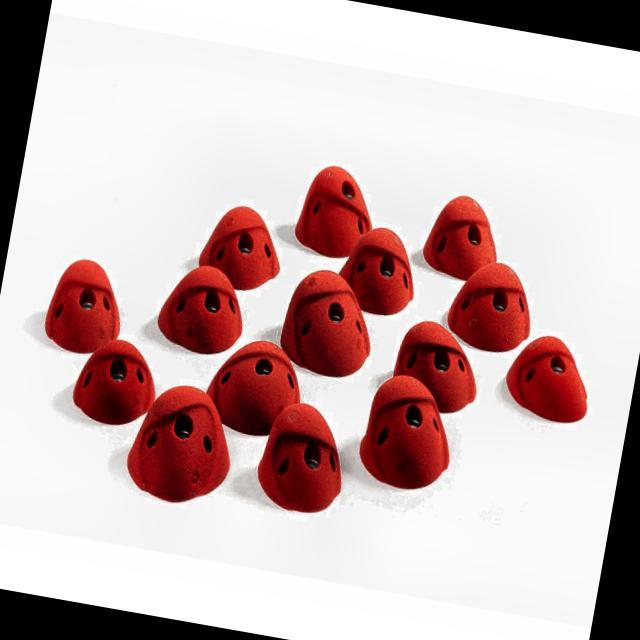Hold: (122, 379, 246, 506), (350, 374, 463, 494), (250, 400, 354, 523), (268, 268, 381, 379), (317, 220, 427, 320), (198, 339, 306, 439), (440, 249, 540, 353), (382, 320, 486, 420), (288, 151, 382, 260), (40, 254, 136, 360), (64, 336, 162, 438), (150, 260, 252, 358), (190, 195, 287, 298), (503, 332, 603, 424), (416, 190, 508, 284)
